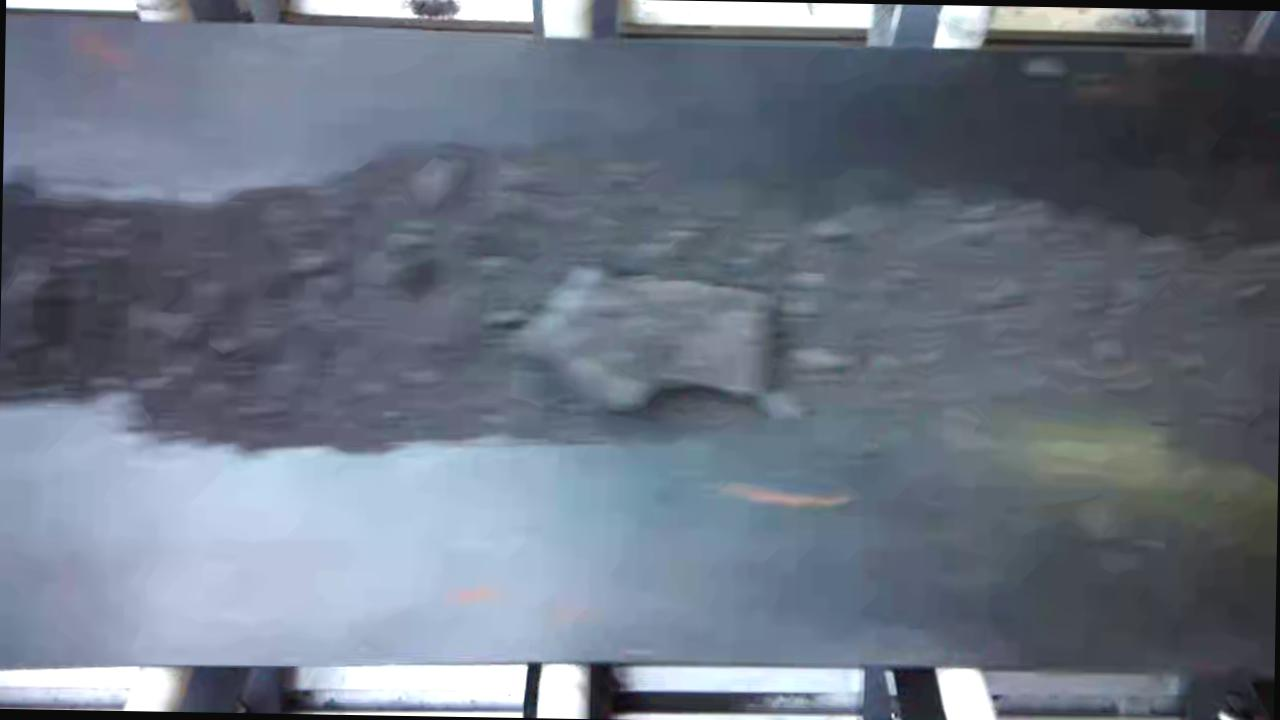conveyor: (0, 31, 1280, 669)
